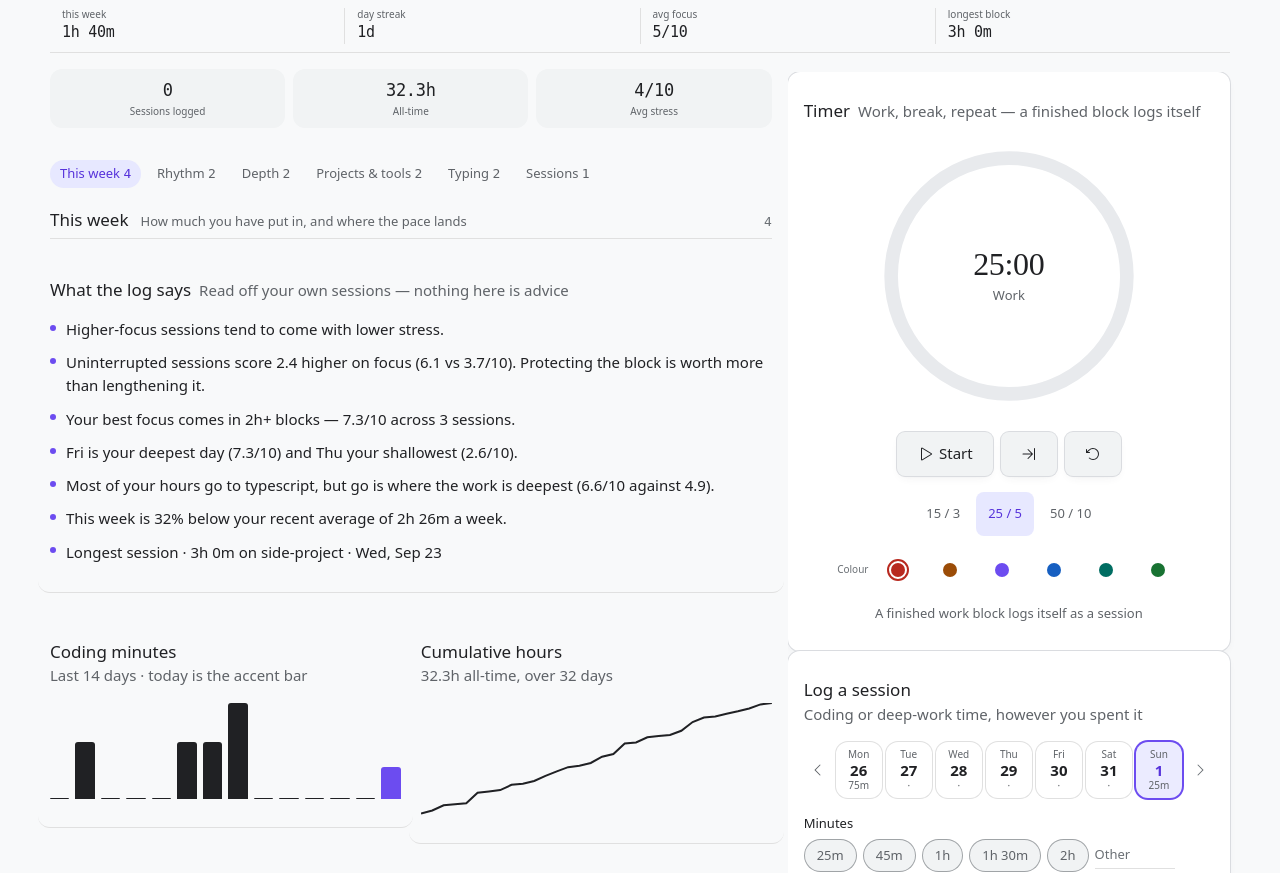
Test case: Focus · the registry is the review zone › shows one group at a time, and its heading and count match the rail row
The width and height of the screenshot is (1280, 873).
Step 1. Click the button "This week 4" → (96, 174), box [50,160,141,188]
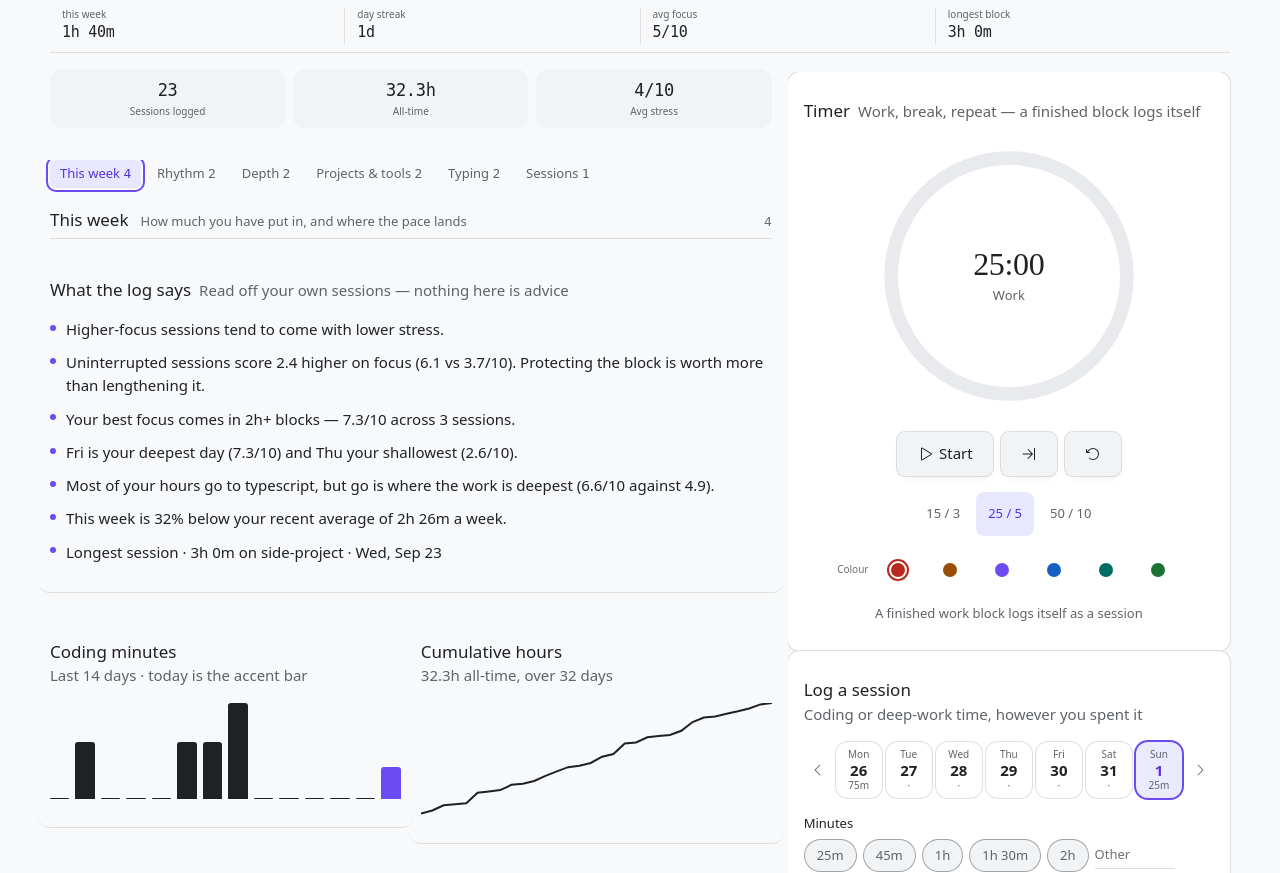
Expected: the element that starts with "What the log says" is shown, [50,251,772,593]
Step 2. Click the button "Rhythm 2" → (186, 174), box [147,160,226,188]
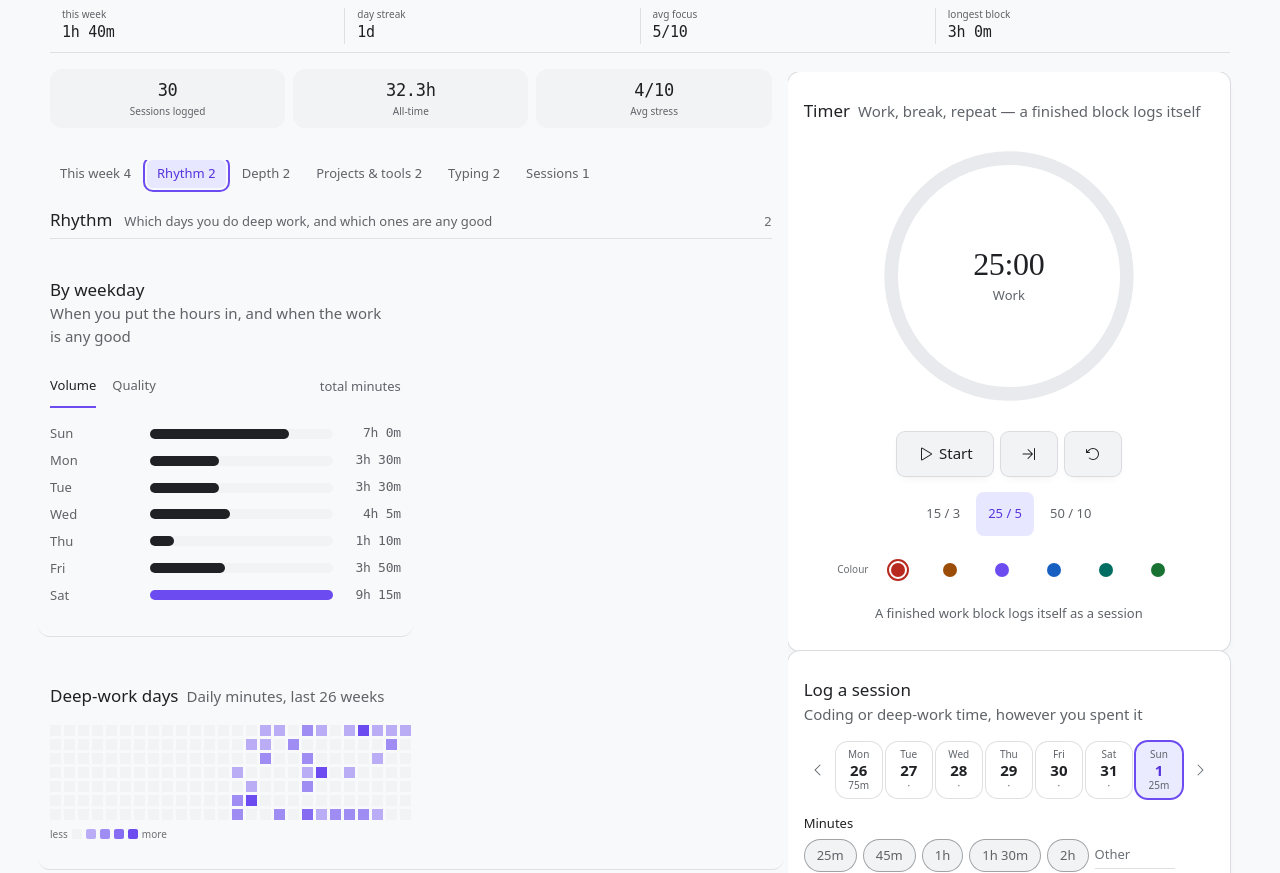
Expected: the element that starts with "By weekday" is shown, [50,251,401,637]
Step 3. Click the button "Depth 2" → (266, 174), box [232,160,300,188]
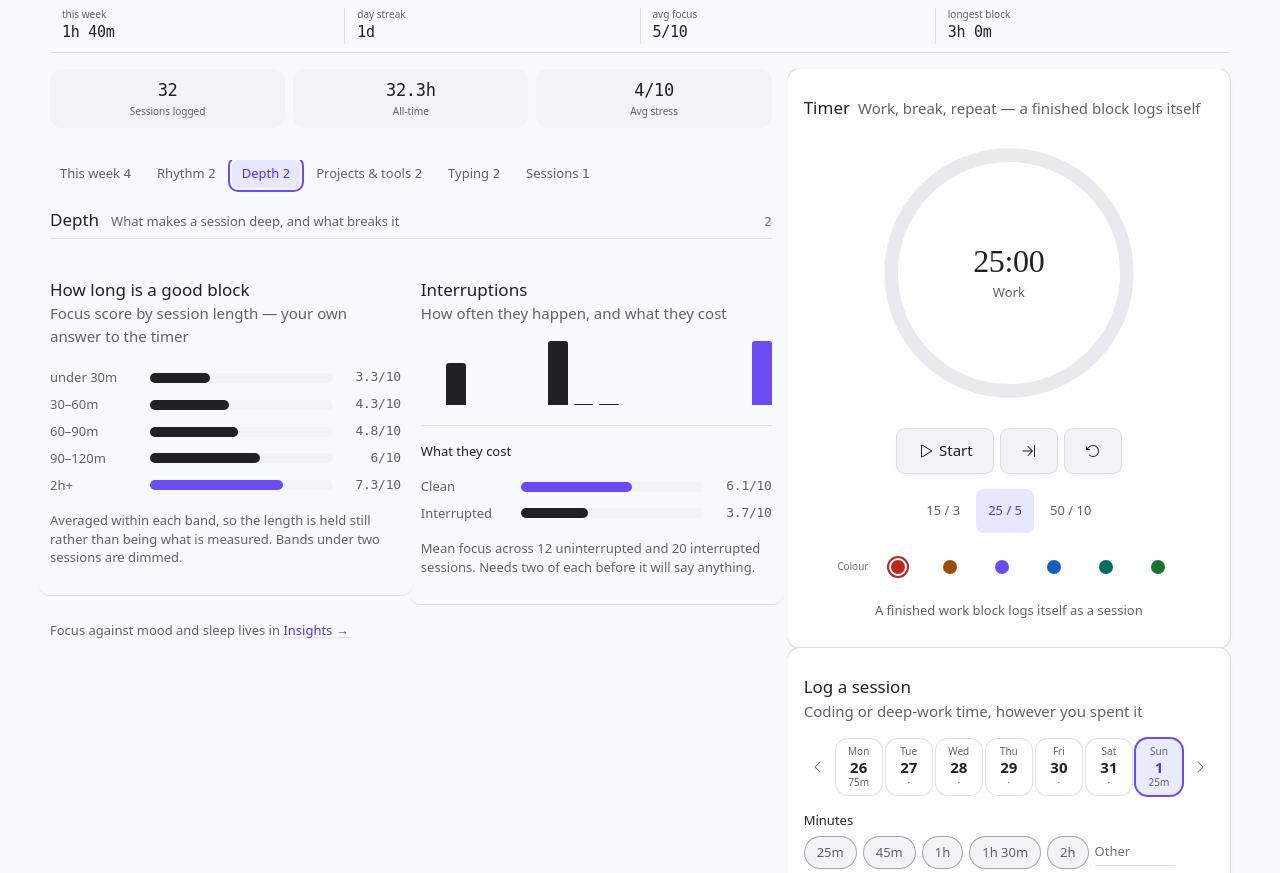
Expected: the element that starts with "How long is a good block" is shown, [50,251,401,596]
Step 4. Click the button "Projects & tools 2" → (369, 174), box [306,160,432,188]
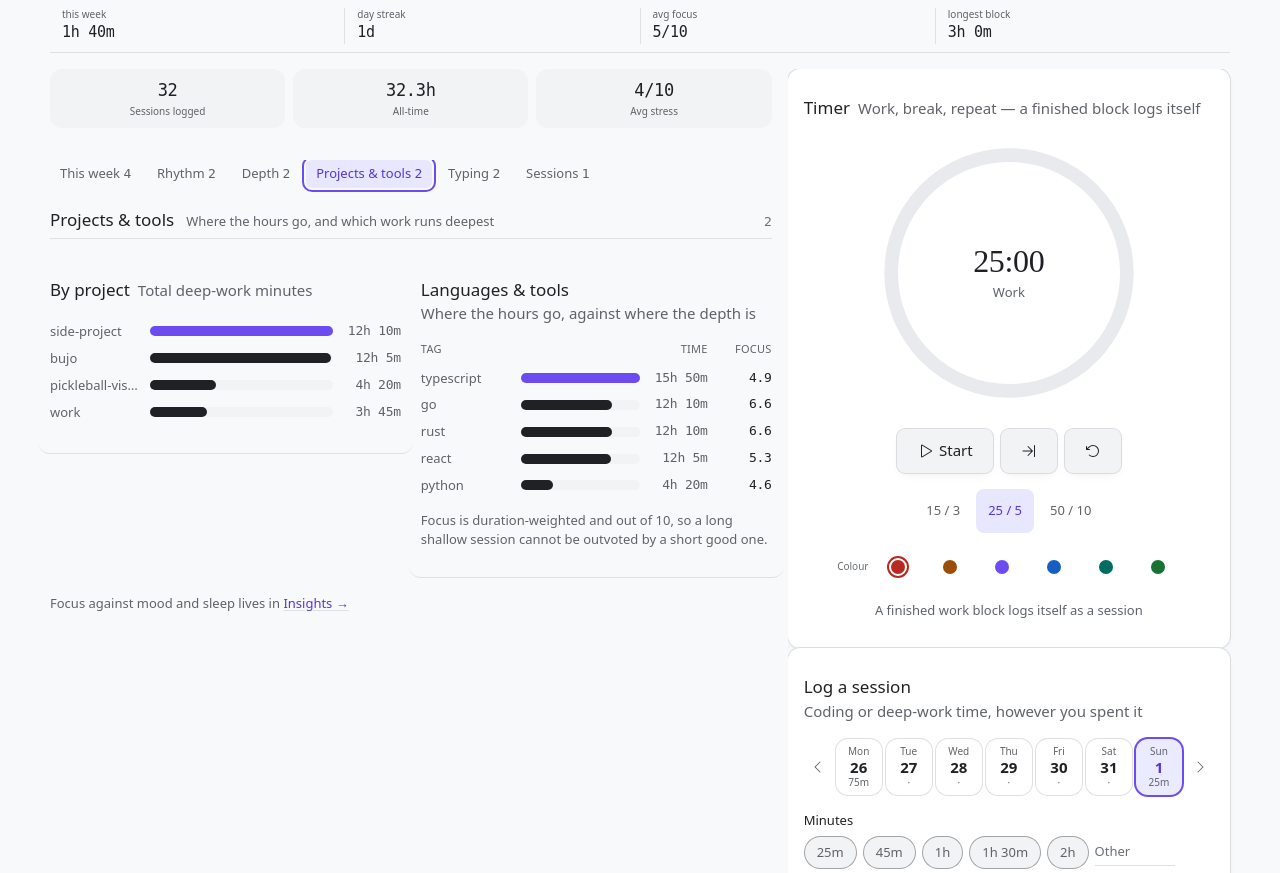
Expected: the element that starts with "By project" is shown, [50,251,401,454]
Step 5. Click the button "Typing 2" → (474, 174), box [438,160,510,188]
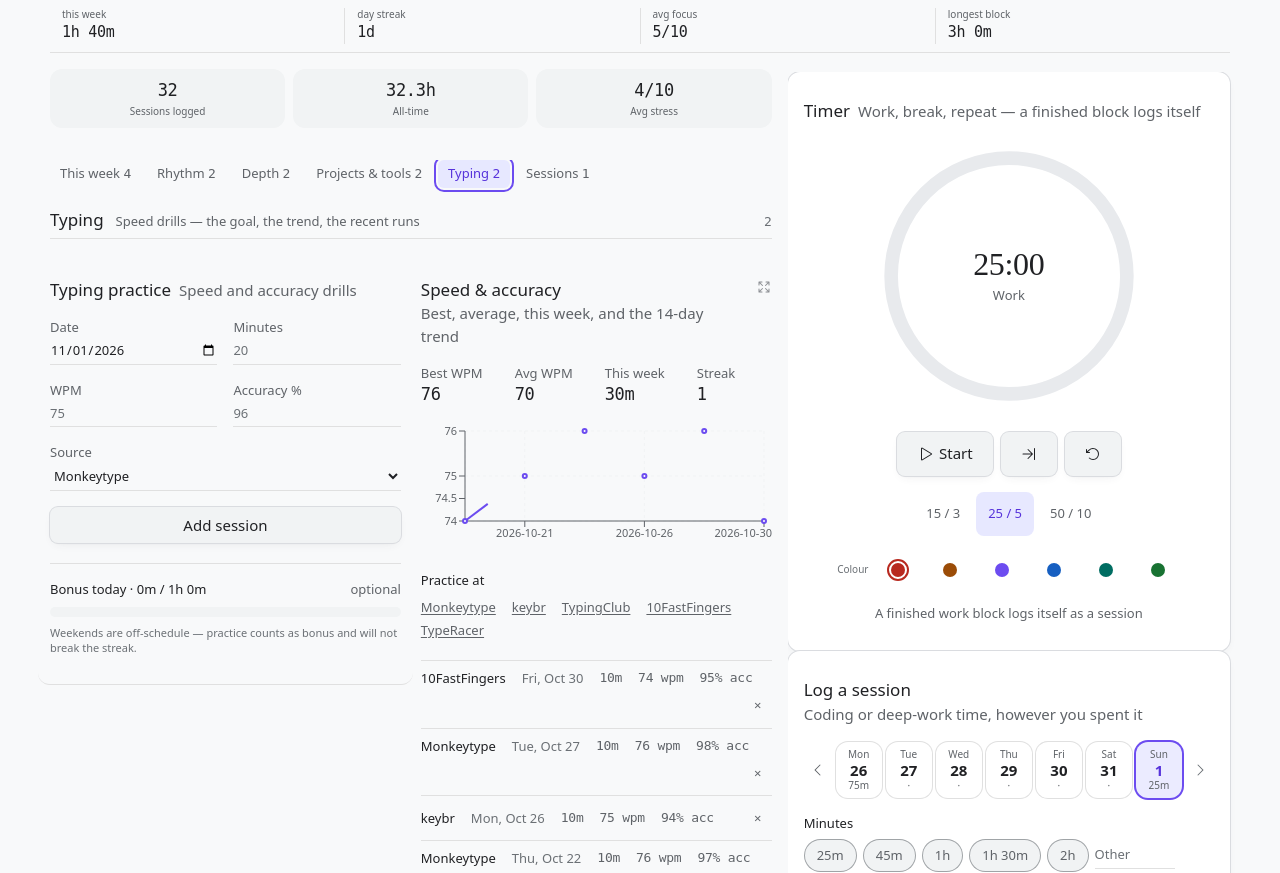
Expected: the element that starts with "Typing practice" is shown, [50,251,401,685]
Step 6. Click the button "Sessions 1" → (558, 174), box [516,160,599,188]
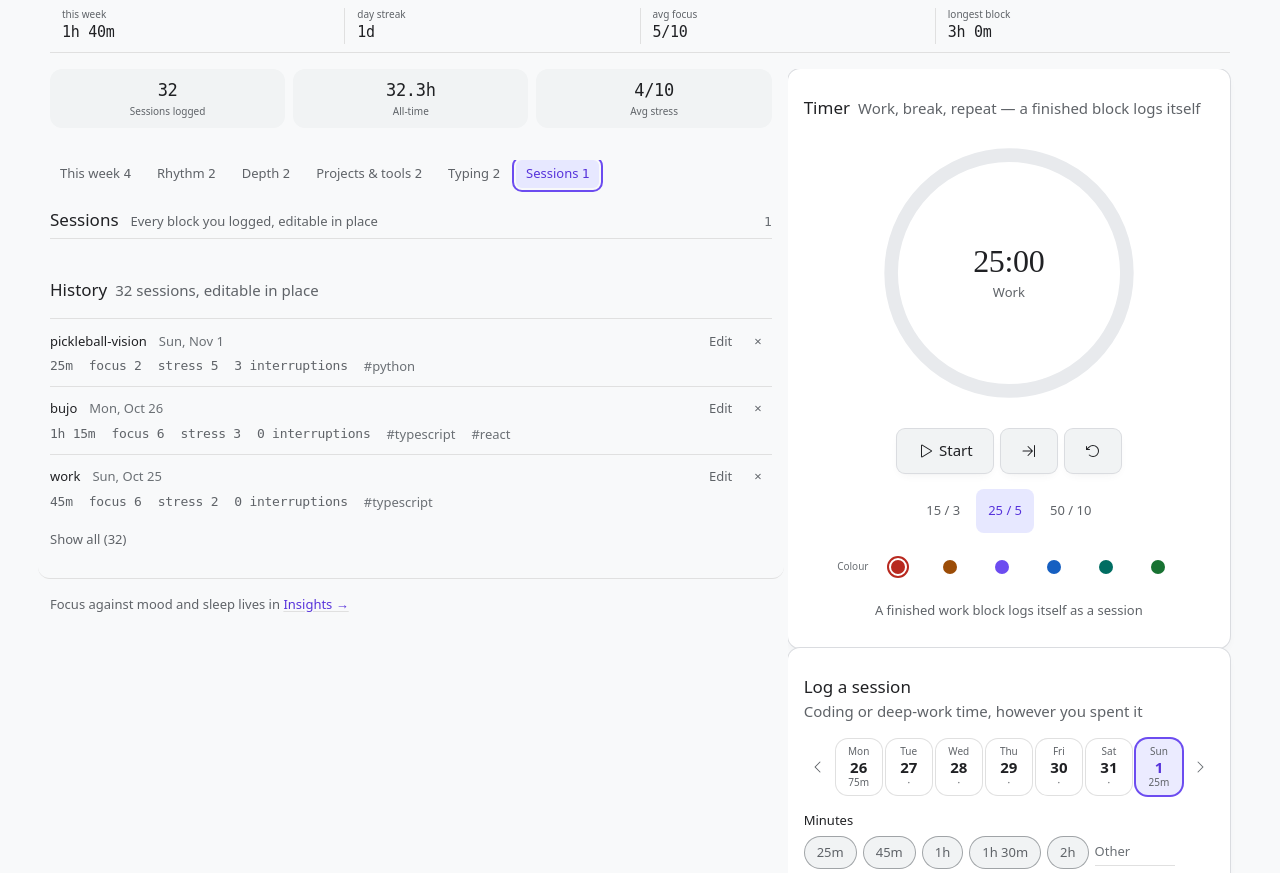
Expected: the element that starts with "History" is shown, [50,251,772,579]
